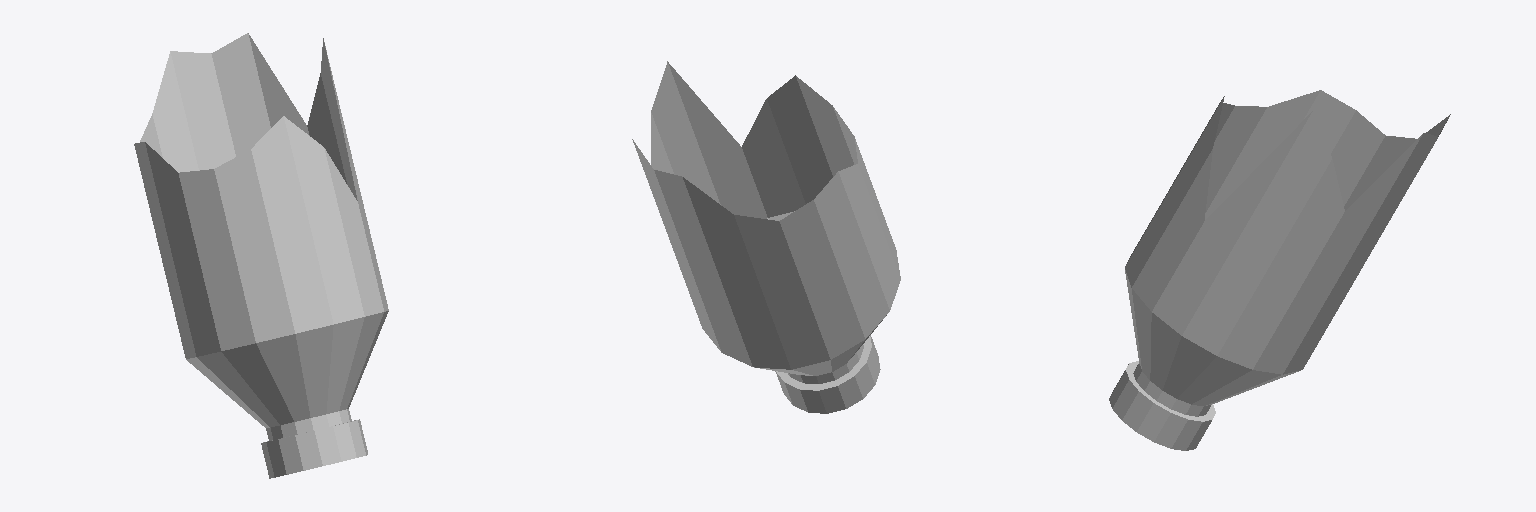
Rendered from brokenbottle.obj.
3 renders of one model, left to right at view 1: azimuth 30°, elevation 25°; view 2: azimuth 150°, elevation 25°; view 3: azimuth 270°, elevation 25°, orthographic.
Parts seen in each view (by area): view 1: pCylinder2; view 2: pCylinder2; view 3: pCylinder2.
Part boxes in pixels (left/top/right/bottom): pCylinder2: left=134, top=33, right=388, bottom=478; pCylinder2: left=632, top=61, right=900, bottom=413; pCylinder2: left=1109, top=90, right=1450, bottom=450.
Bounding box in the file's own units: 12.26 × 24.05 × 20.03.